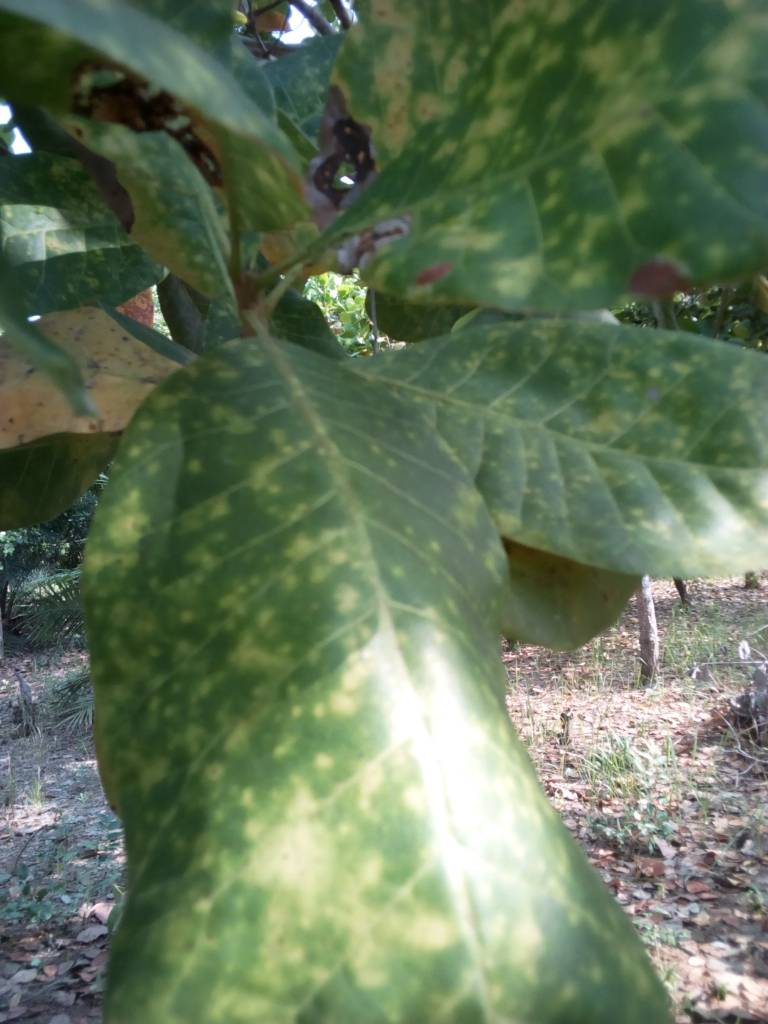Alternariose: (72, 349, 568, 1024), (327, 1, 768, 314), (368, 322, 768, 577), (122, 138, 232, 294)
